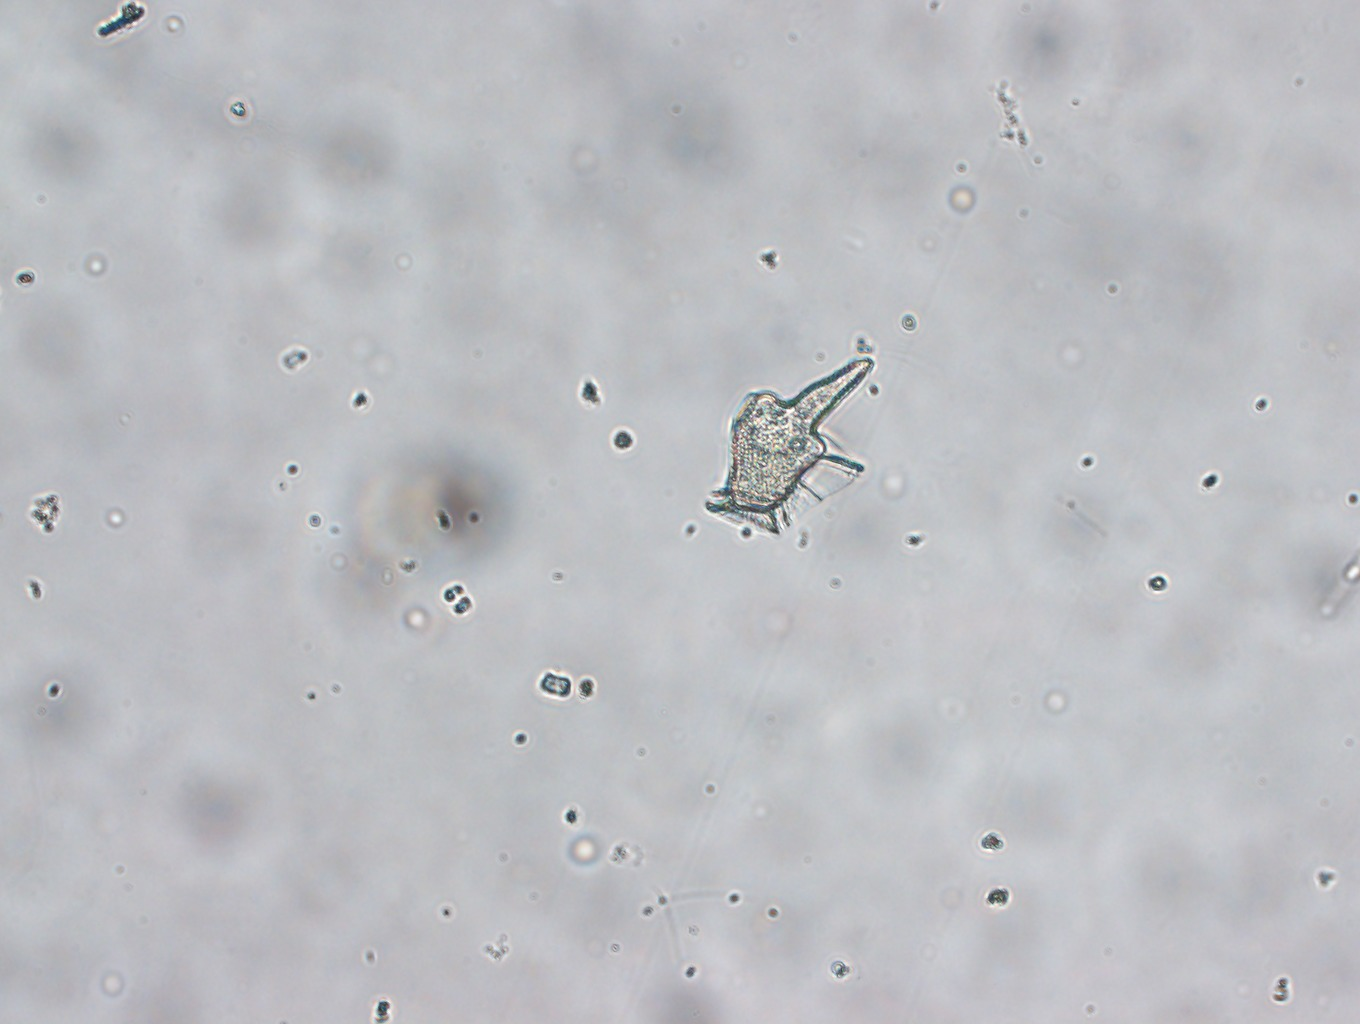dinophysis caudata: (702, 356, 873, 539)
